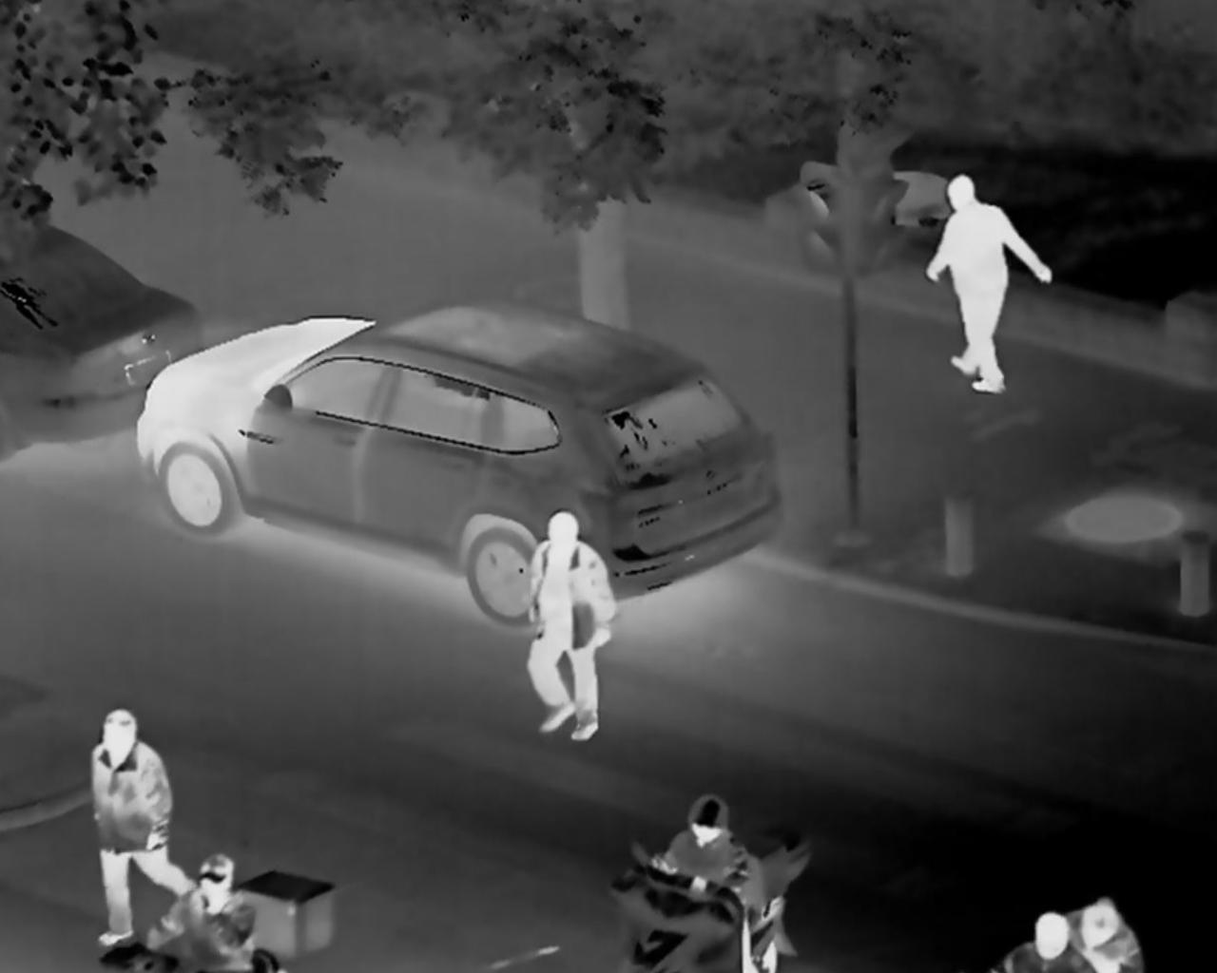person: (907, 156, 1063, 413), (514, 494, 615, 762), (73, 701, 164, 916), (651, 788, 763, 933), (1032, 888, 1177, 973), (178, 854, 255, 973)
